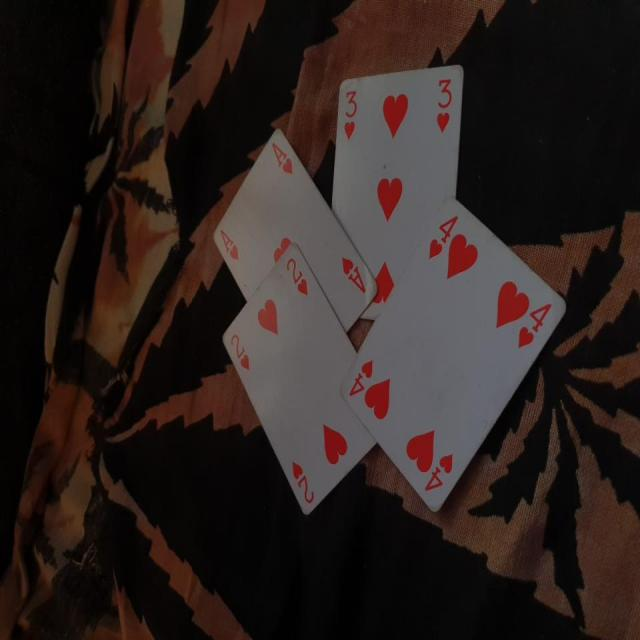2 Hearts: (216, 245, 389, 520)
3 Hearts: (326, 56, 479, 315)
4 Hearts: (337, 200, 572, 527)
A Hearts: (205, 124, 385, 348)
